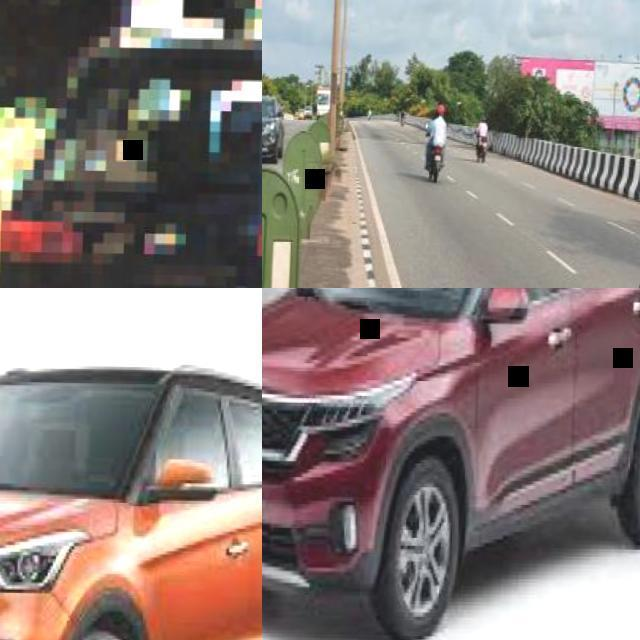car: (268, 285, 640, 630), (5, 356, 261, 640), (262, 91, 282, 162)
